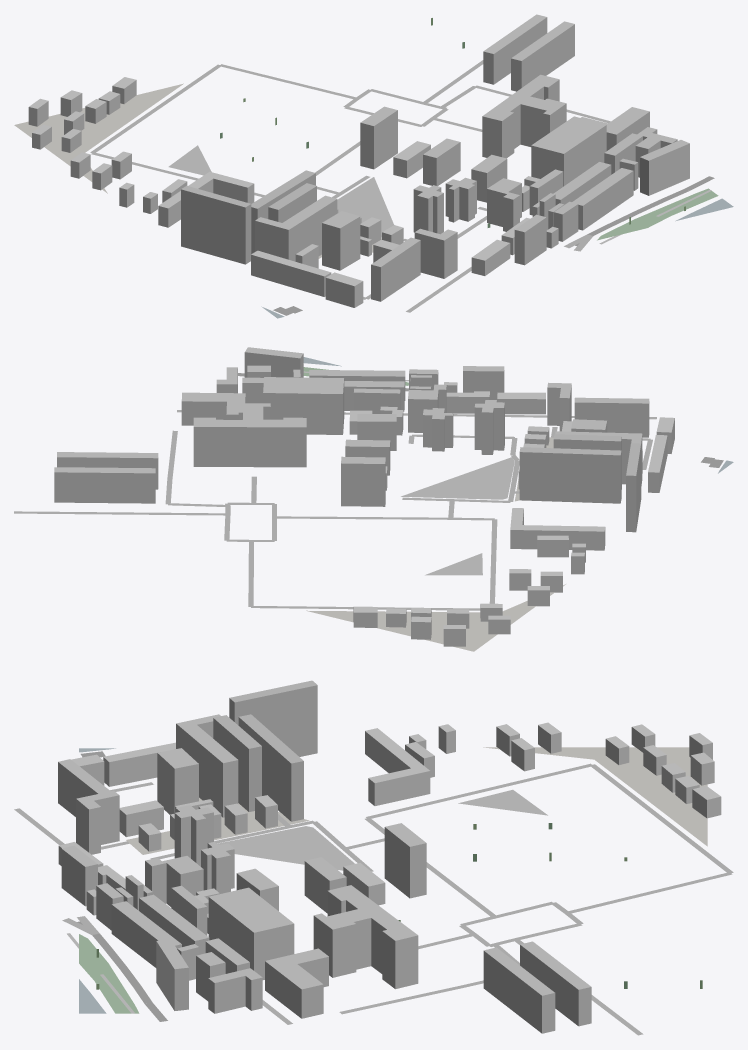
3 views of the same model, one above another, from view 1: azimuth 30°, elevation 25°; view 2: azimuth 150°, elevation 25°; view 3: azimuth 270°, elevation 25° (orthographic). The views are drawn at different scales.
Bounding box in the file's own units: 554 × 60.14 × 573.
